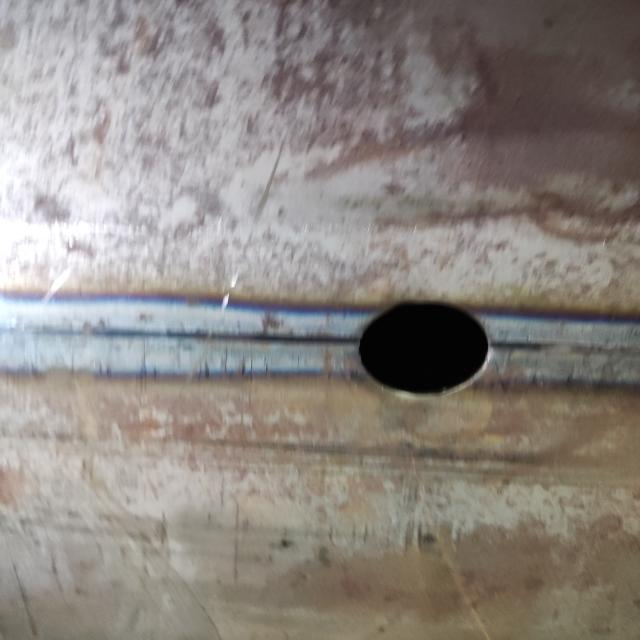seam: (0, 282, 640, 410)
